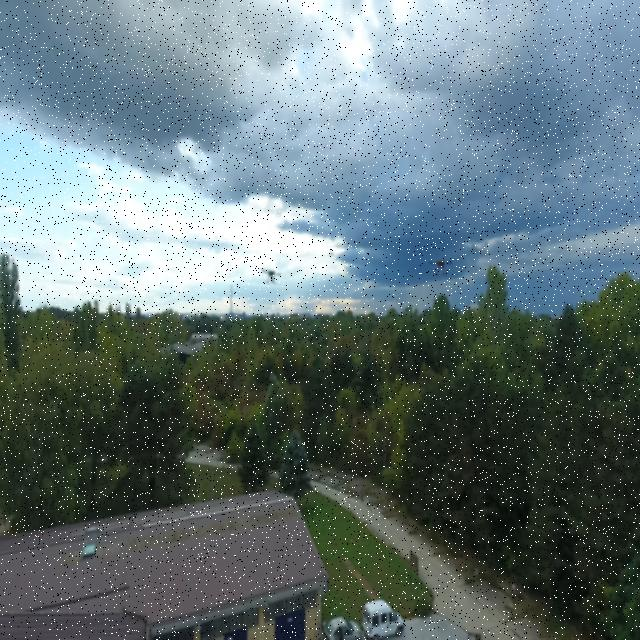UAV: (249, 260, 294, 290), (422, 254, 461, 279)
